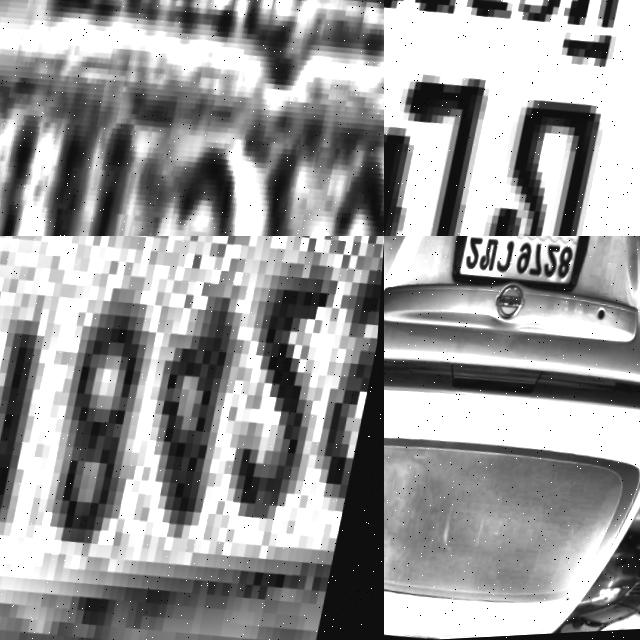license-plate: (0, 236, 384, 640), (0, 0, 384, 236), (384, 0, 640, 236), (449, 236, 599, 306)
